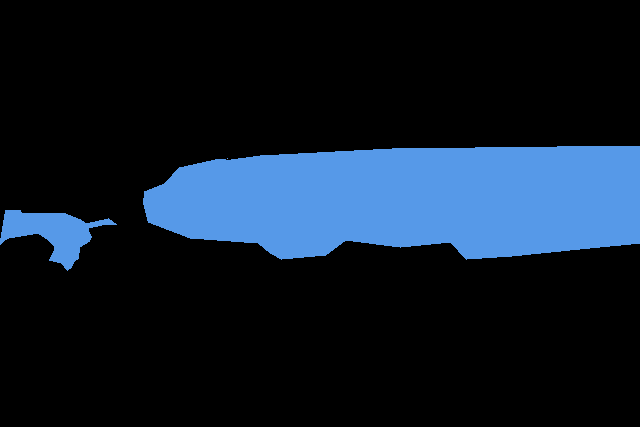Airplane: (143, 145, 640, 259), (0, 210, 116, 271)
